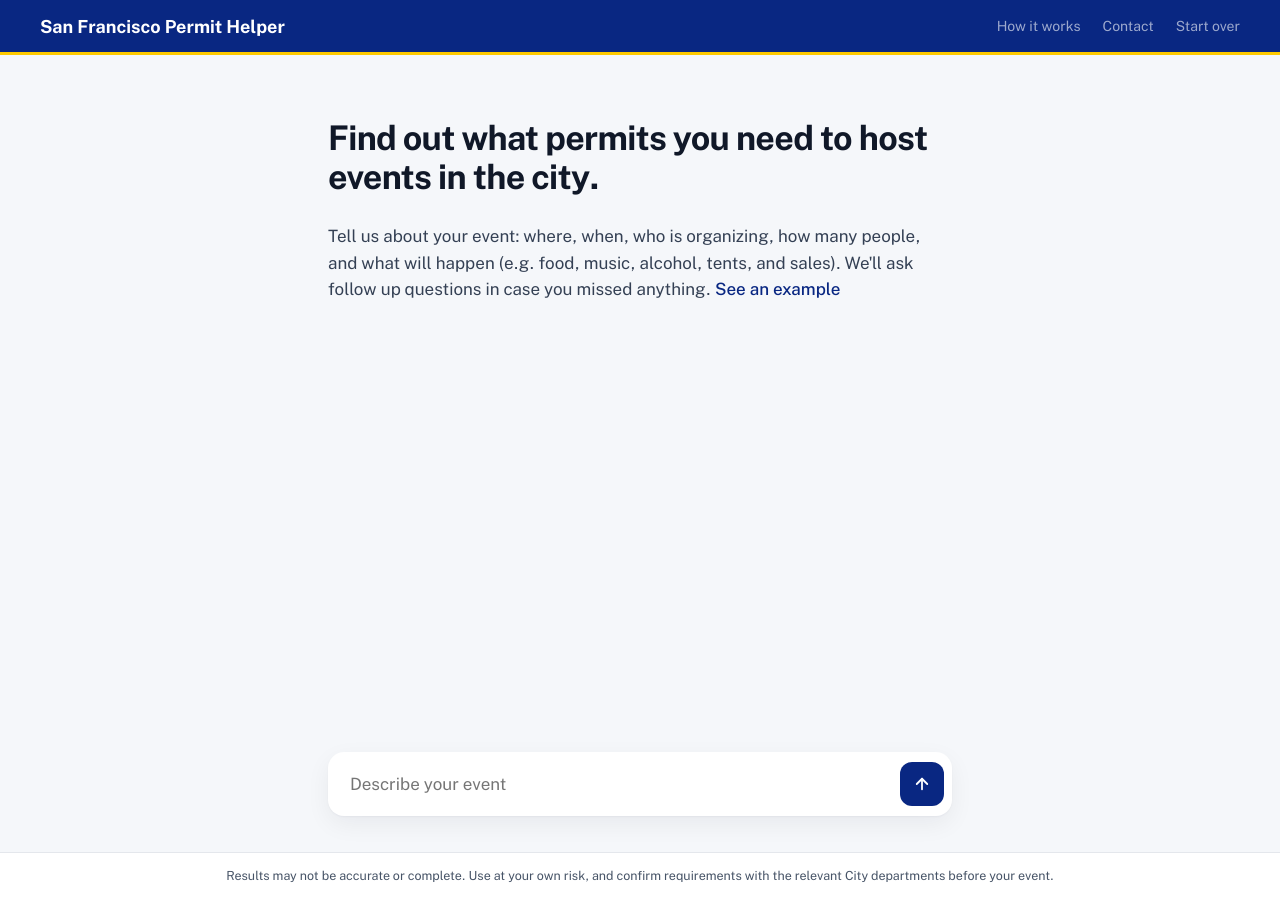
App › runs intake to summary, and starts over
Type "Block party on Bocana" into the text box named "Message" at x=620, y=784, box [350,760,890,808]
Then press Enter
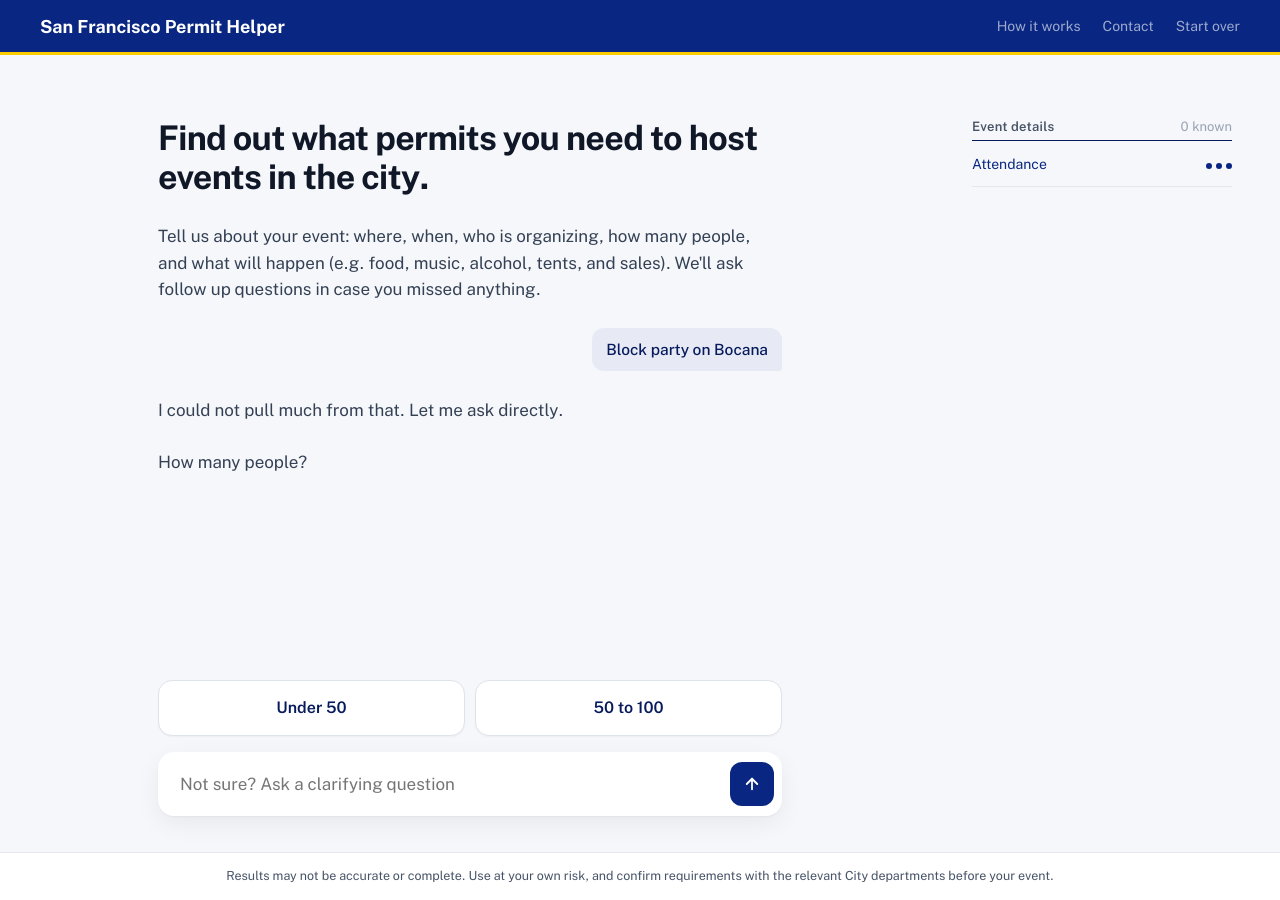
Click the button "50 to 100" at x=628, y=708, box [475,680,782,736]
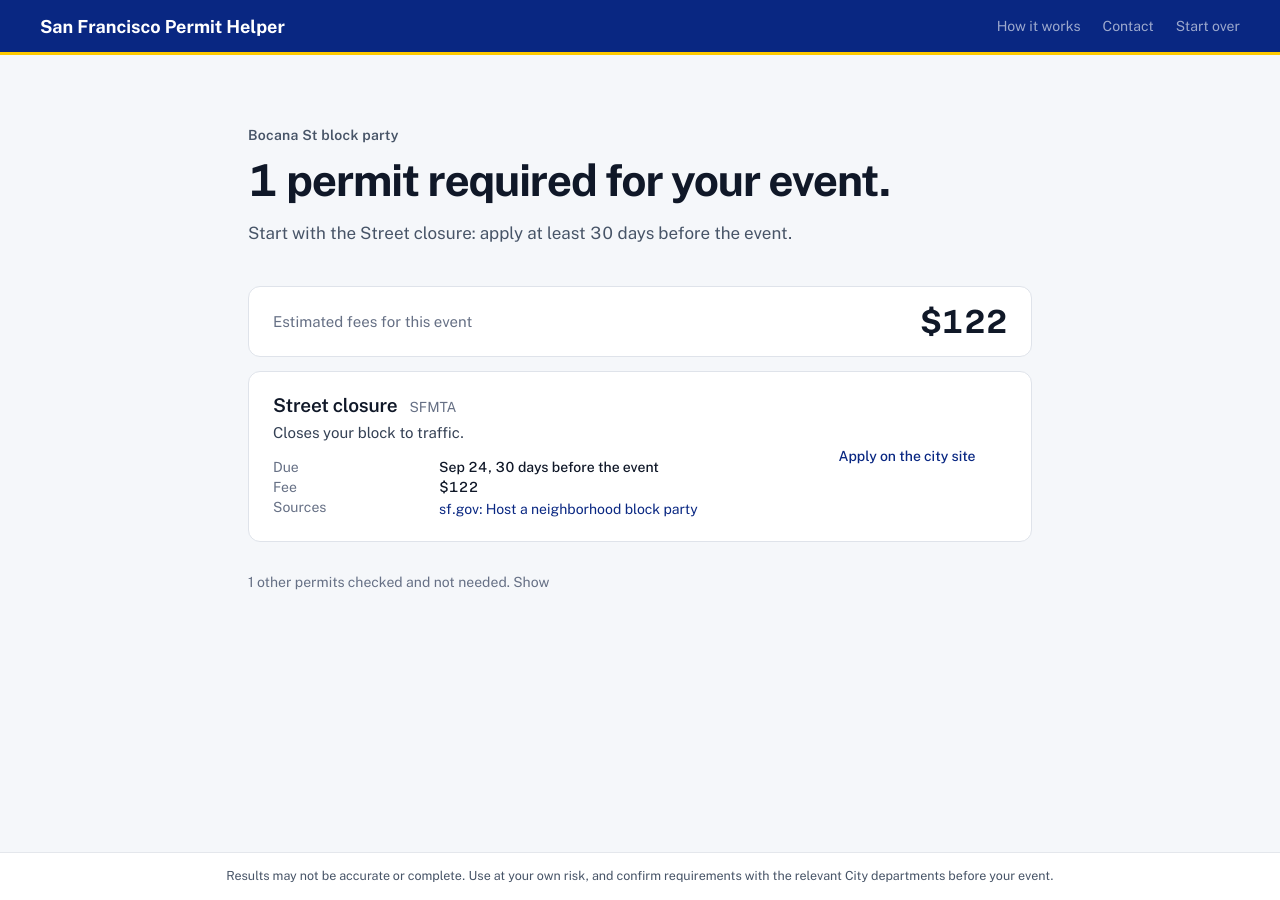
Check: the heading "1 permit required for your event." is shown, box [248,154,890,206]
Check: the element "Street closure" is shown, box [248,371,1032,542]
Click the button "Start over" at x=1208, y=26, box [1176,18,1240,34]
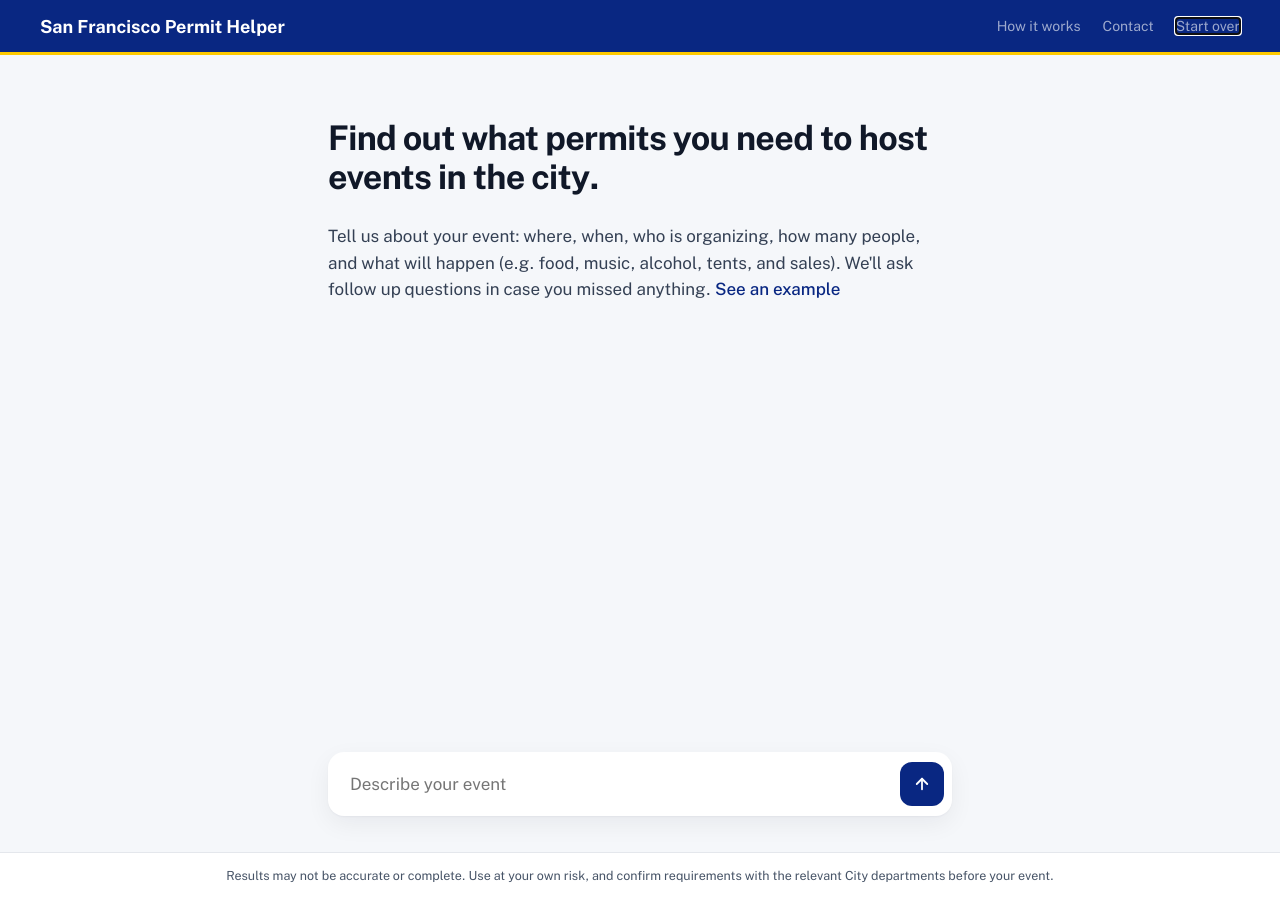
Check: the text "Find out what permits you need to host events in the city." is shown, box [328,119,928,197]
Check: the button "See an example" is shown, box [715,276,840,302]
